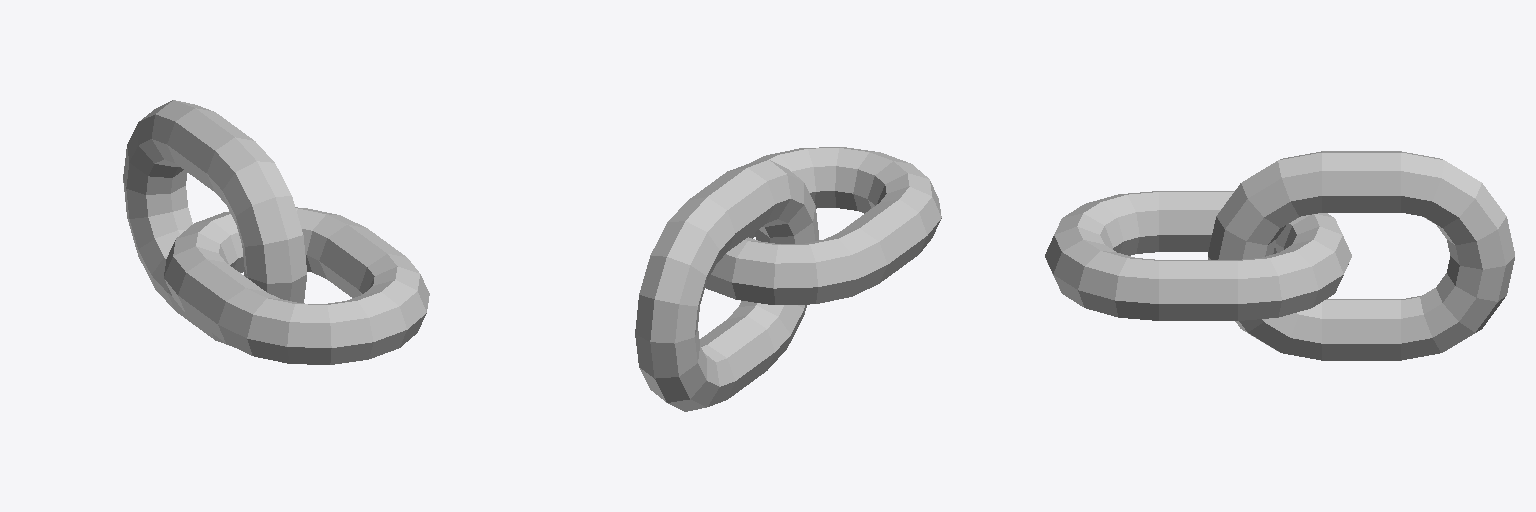
File: chain.obj
3 renders of one model, left to right at view 1: azimuth 30°, elevation 25°; view 2: azimuth 150°, elevation 25°; view 3: azimuth 270°, elevation 25°, orthographic.
Visible parts, largest first — view 1: Torus.001_Torus.004; view 2: Torus.001_Torus.004; view 3: Torus.001_Torus.004.
Boxes of the visible parts, x1=… form: Torus.001_Torus.004: x1=123, y1=100, x2=429, y2=364; Torus.001_Torus.004: x1=635, y1=147, x2=941, y2=411; Torus.001_Torus.004: x1=1045, y1=151, x2=1514, y2=360.
Size of the model in its own units: 2.8 by 2.8 by 5.78.